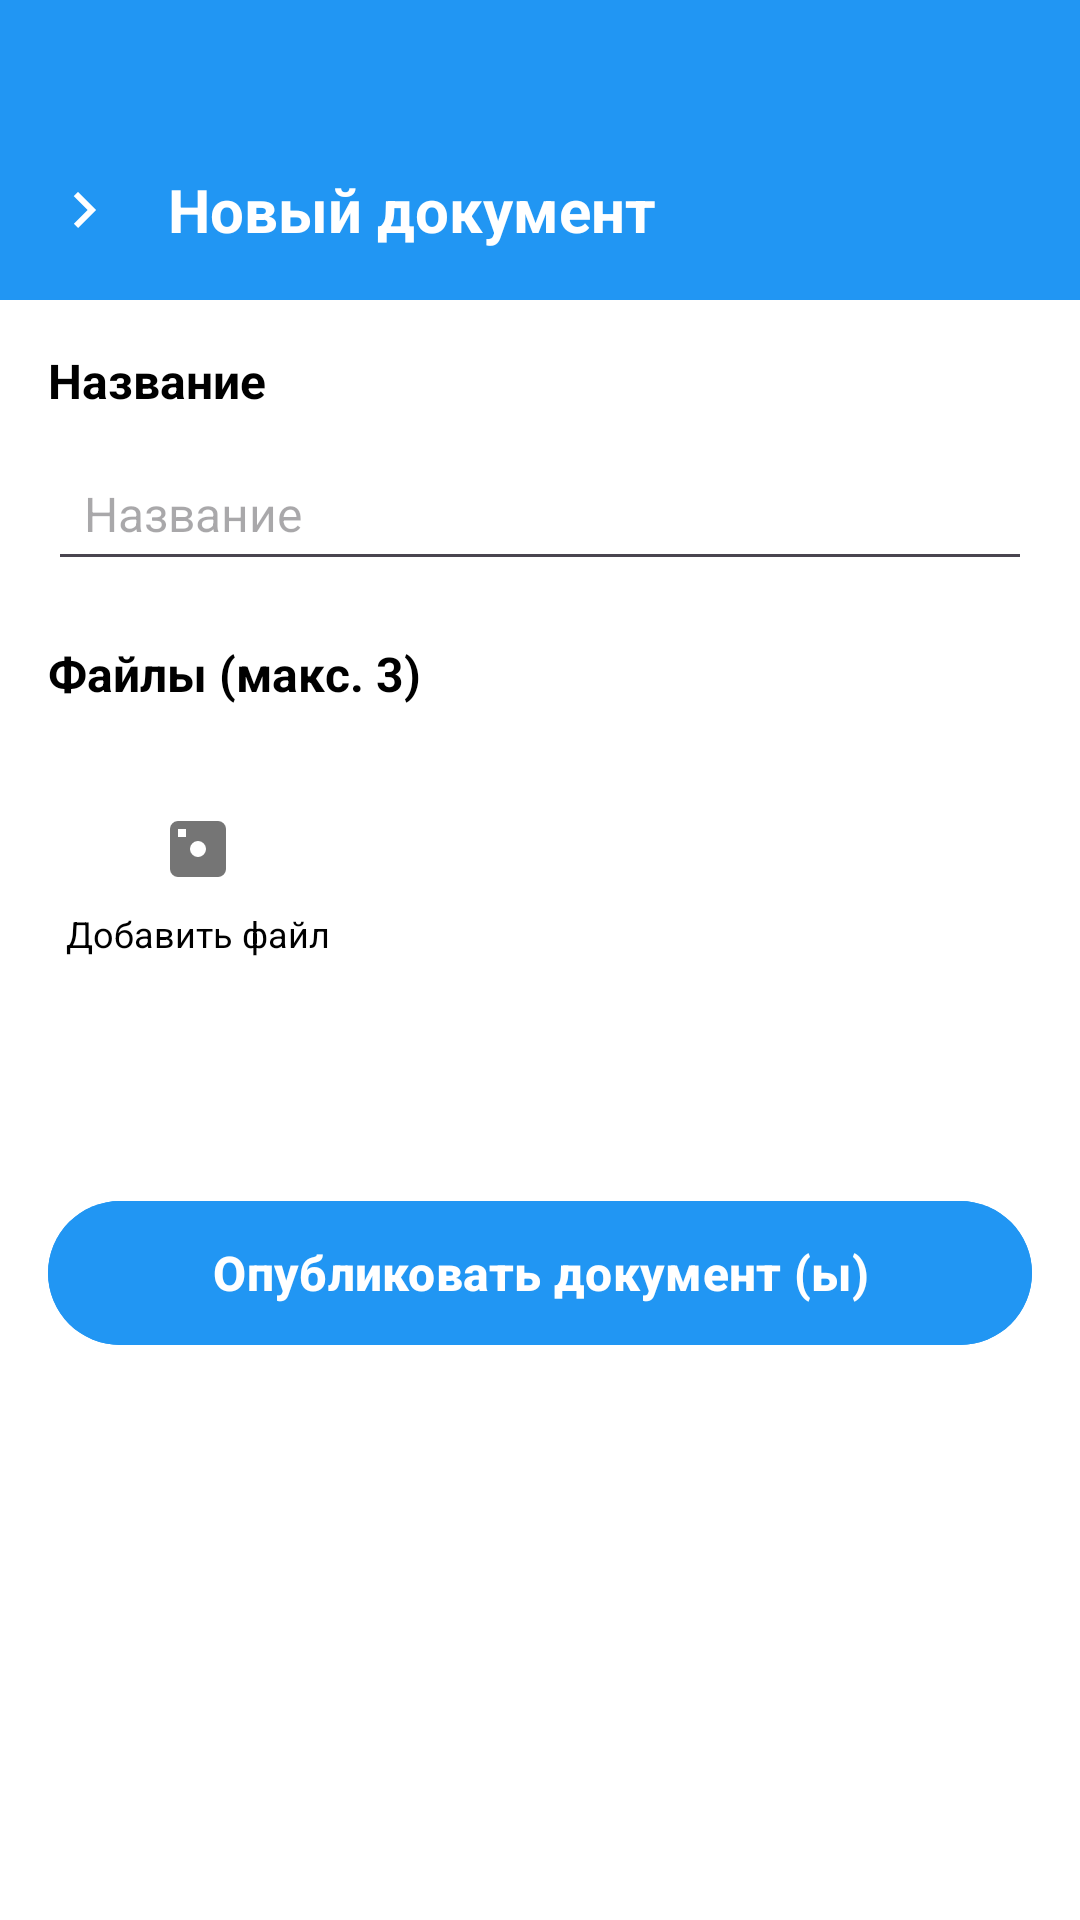

Where to tap for icons on this 1080 × 1920 app screen, as point (x, y):
arrow right: point (85, 210)
camera: point (198, 849)
